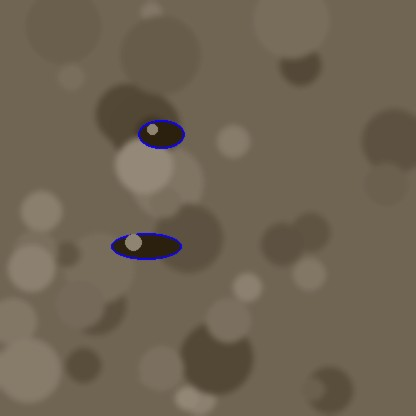gota: (111, 234, 181, 262), (138, 121, 184, 151)
